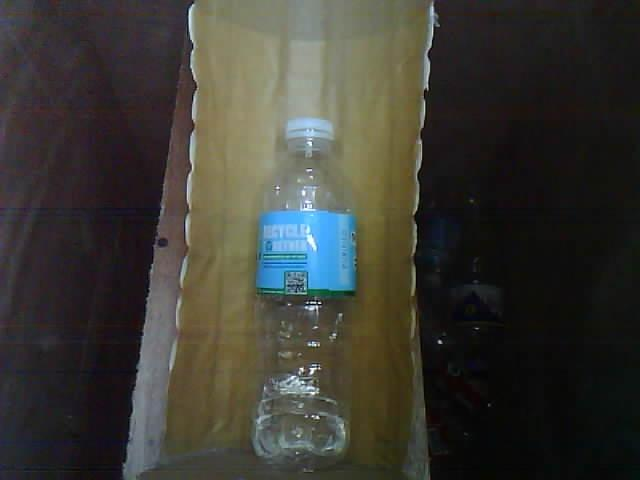small_bottle: (240, 108, 380, 480)
